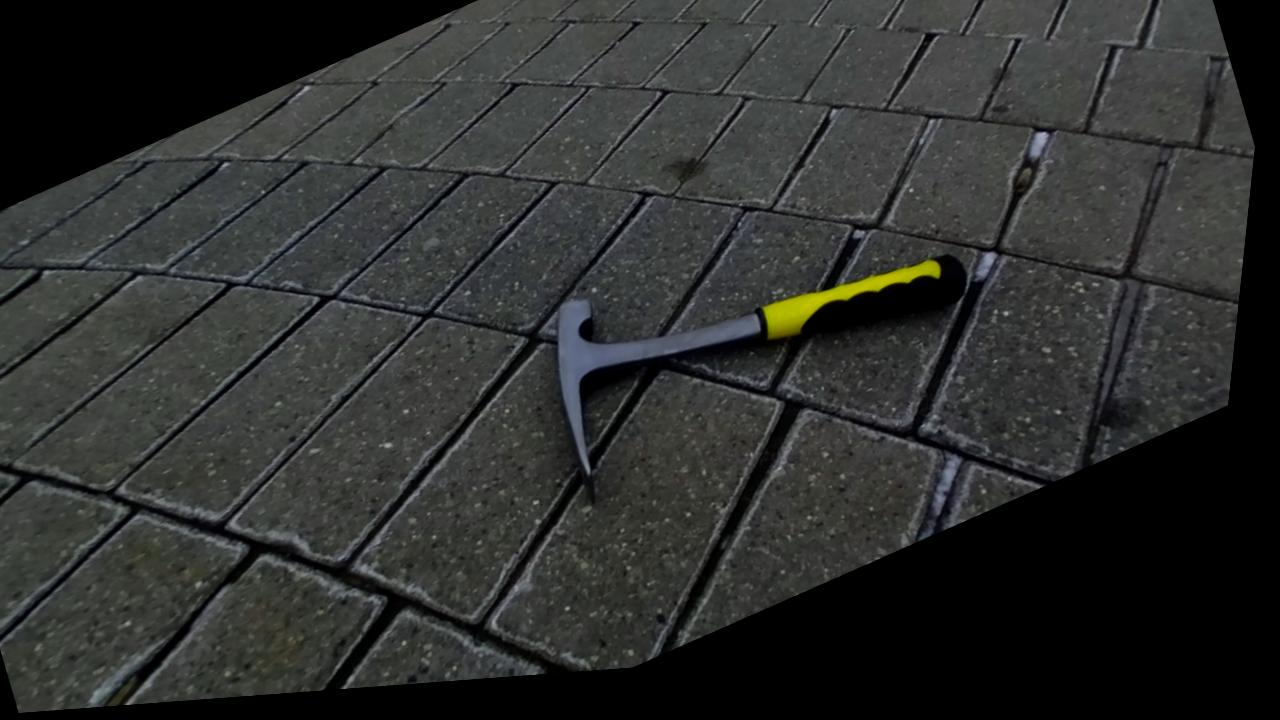pick: (557, 255, 966, 501)
